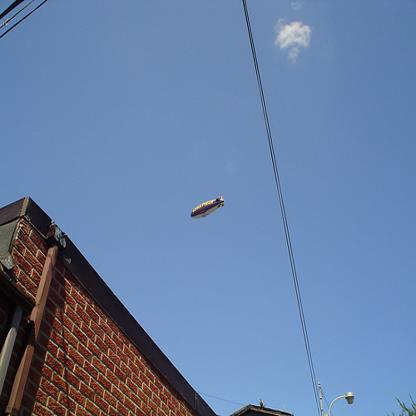Airship: (186, 191, 231, 224)
